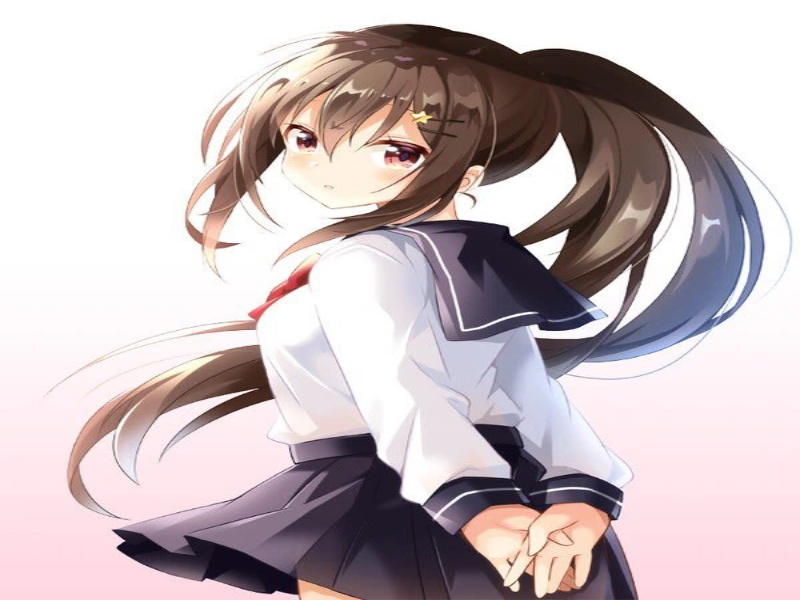person: (237, 43, 492, 221)
